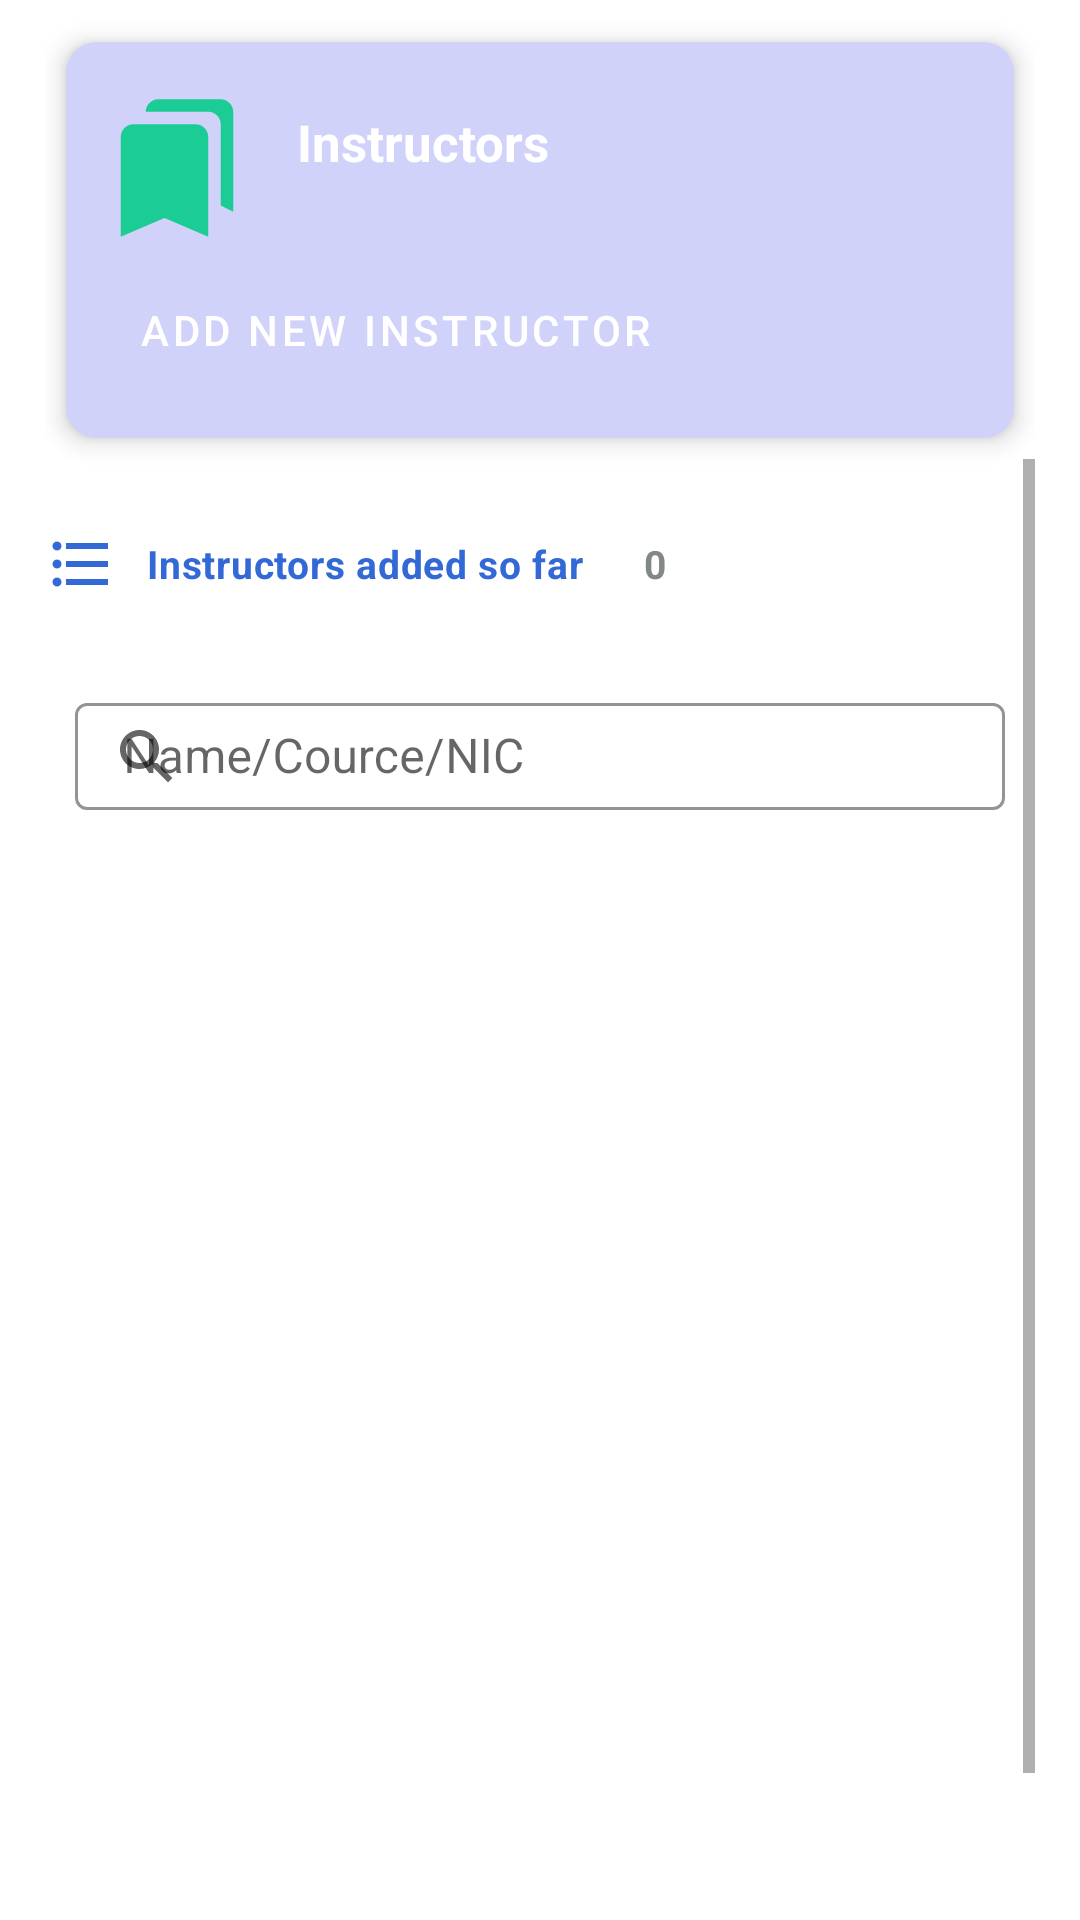

Named icons in this screenshot (1080px×1920px) and their centers, (x=x, y=y):
format list bulleted: (x=80, y=564)
